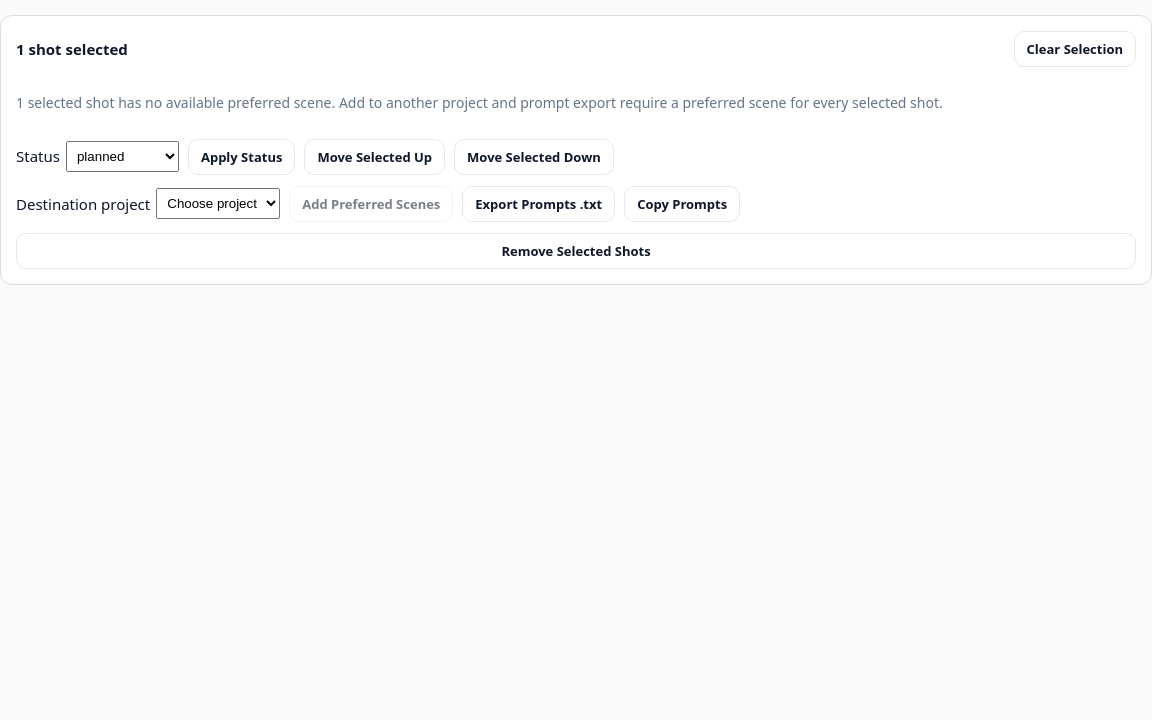
Test: shows explicit project bulk targets, selected count, and confirmation before association removal
Expected: the text "1 shot selected" is shown, top-left (16, 38), bottom-right (128, 60)
What coordinates should you click on to do the following:
click the button "Remove Selected Shots"
I would click on:
 (576, 251)
Its box is top-left (16, 233), bottom-right (1136, 269).
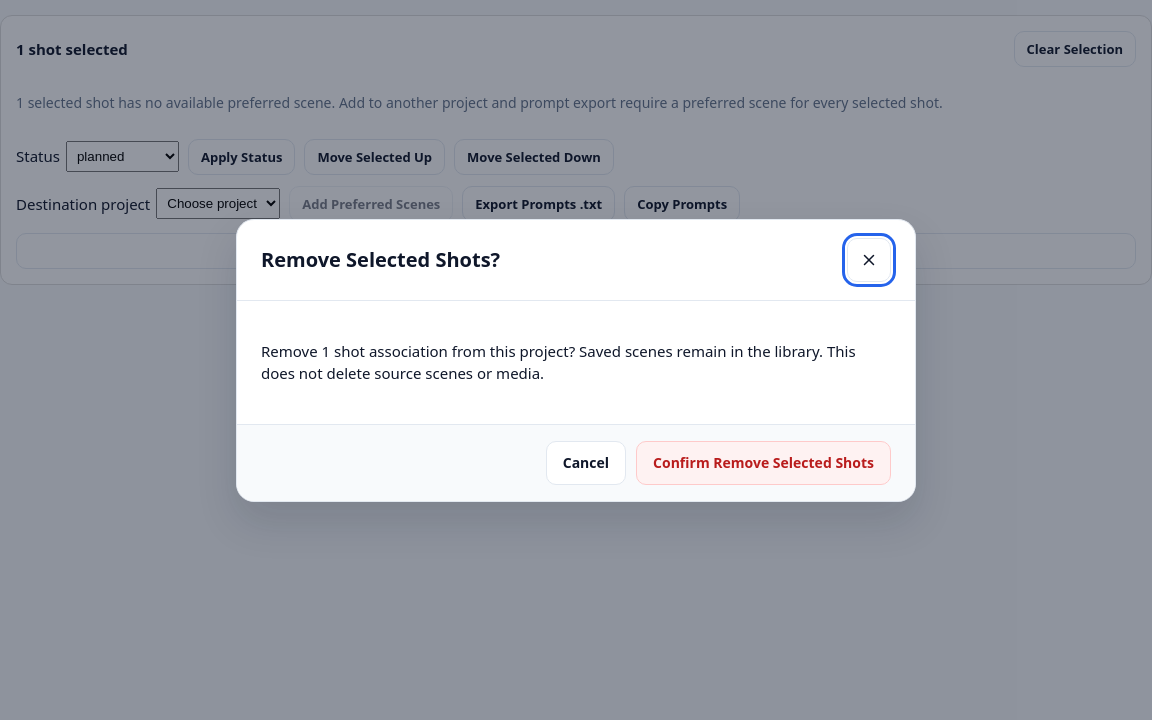
Now the dialog "Remove Selected Shots" shows "saved scenes remain", box top-left (261, 340), bottom-right (856, 383)
What coordinates should you click on to do the following:
click the button "Cancel"
I would click on:
 (586, 462)
Its box is top-left (546, 440), bottom-right (626, 484).
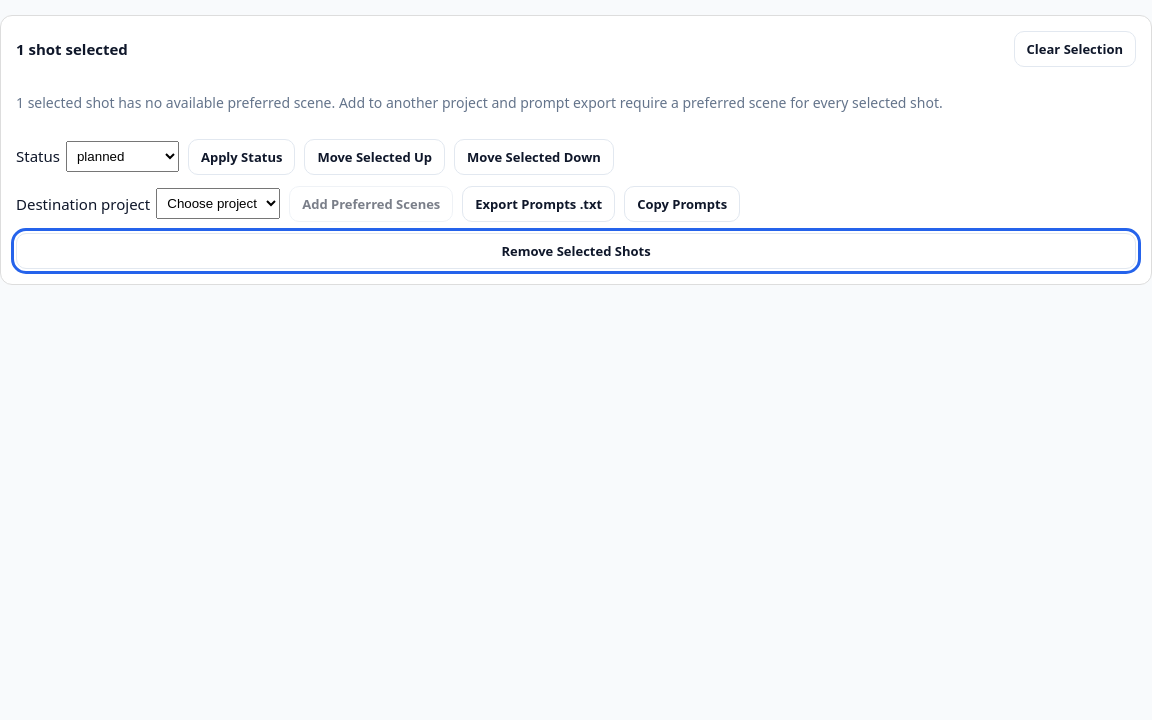
Now the dialog is gone
